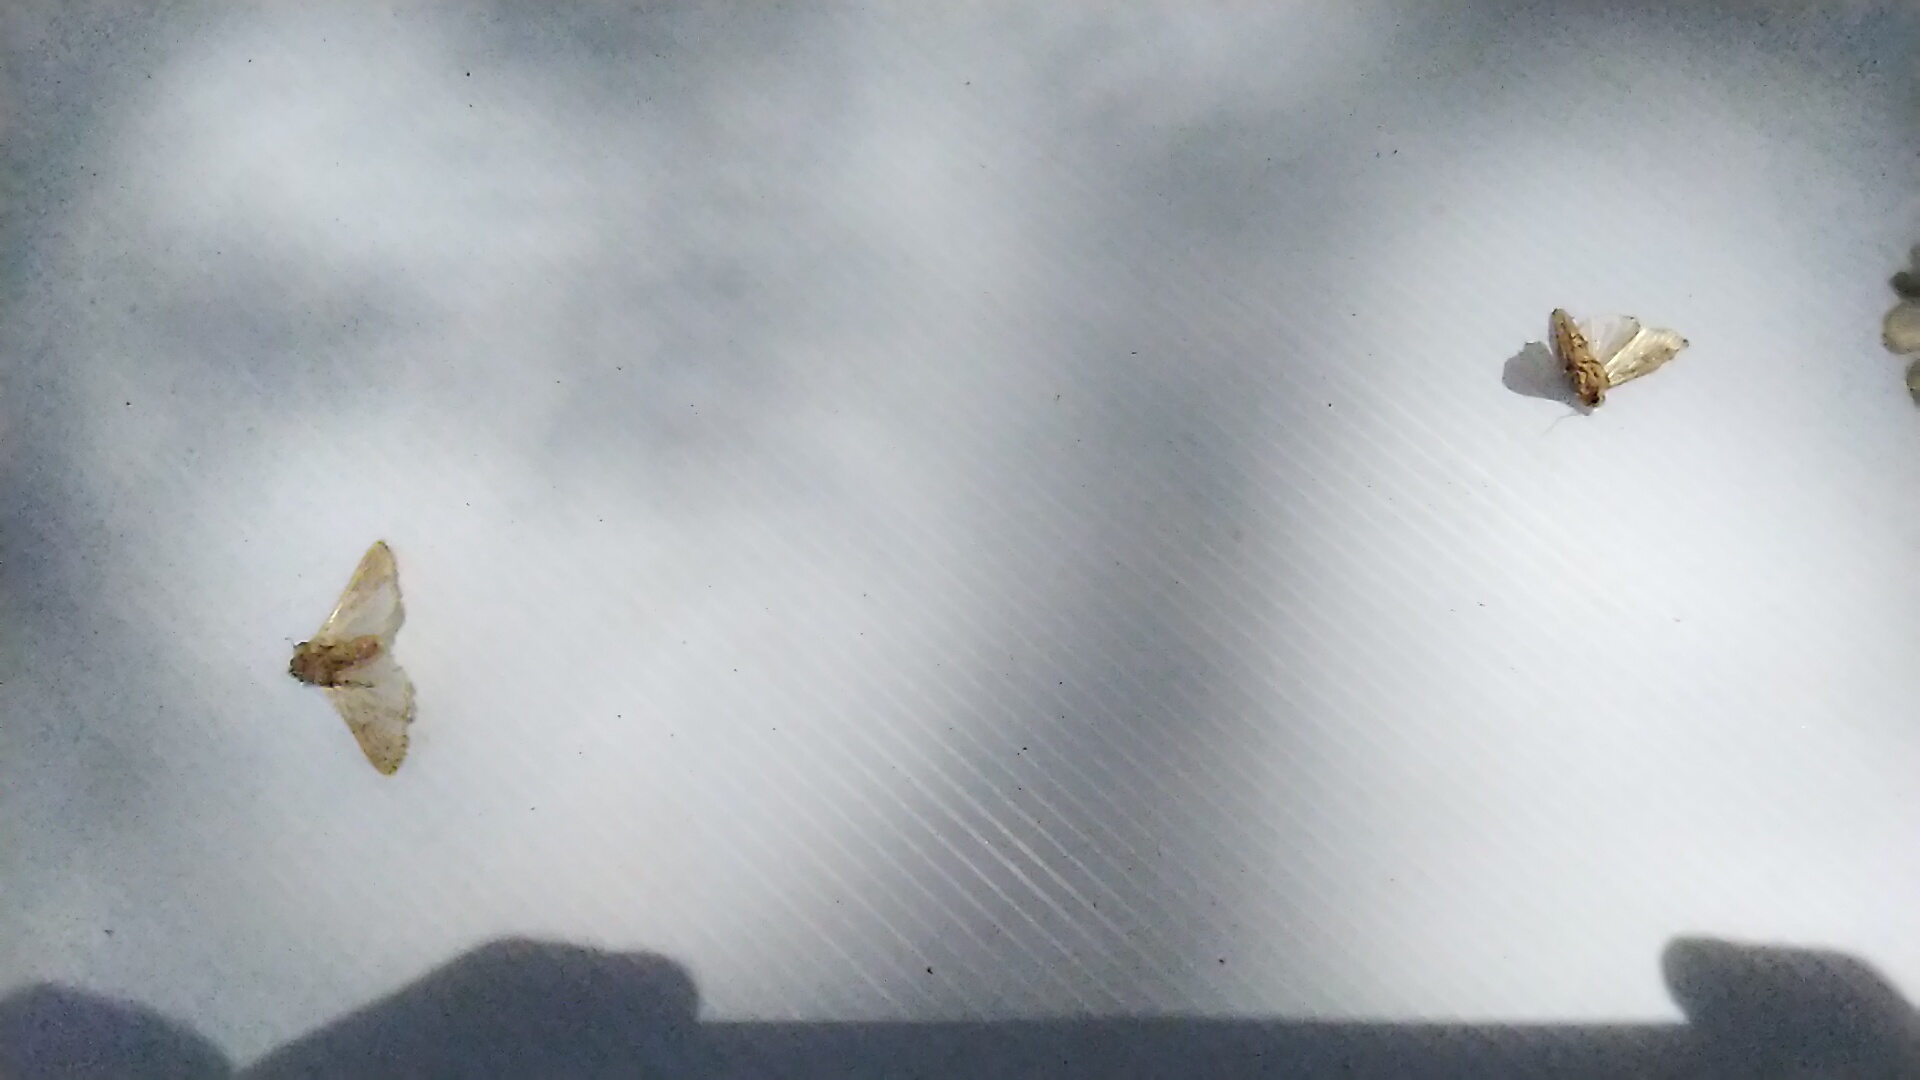INS-B: (280, 534, 448, 793), (1538, 299, 1714, 407)
